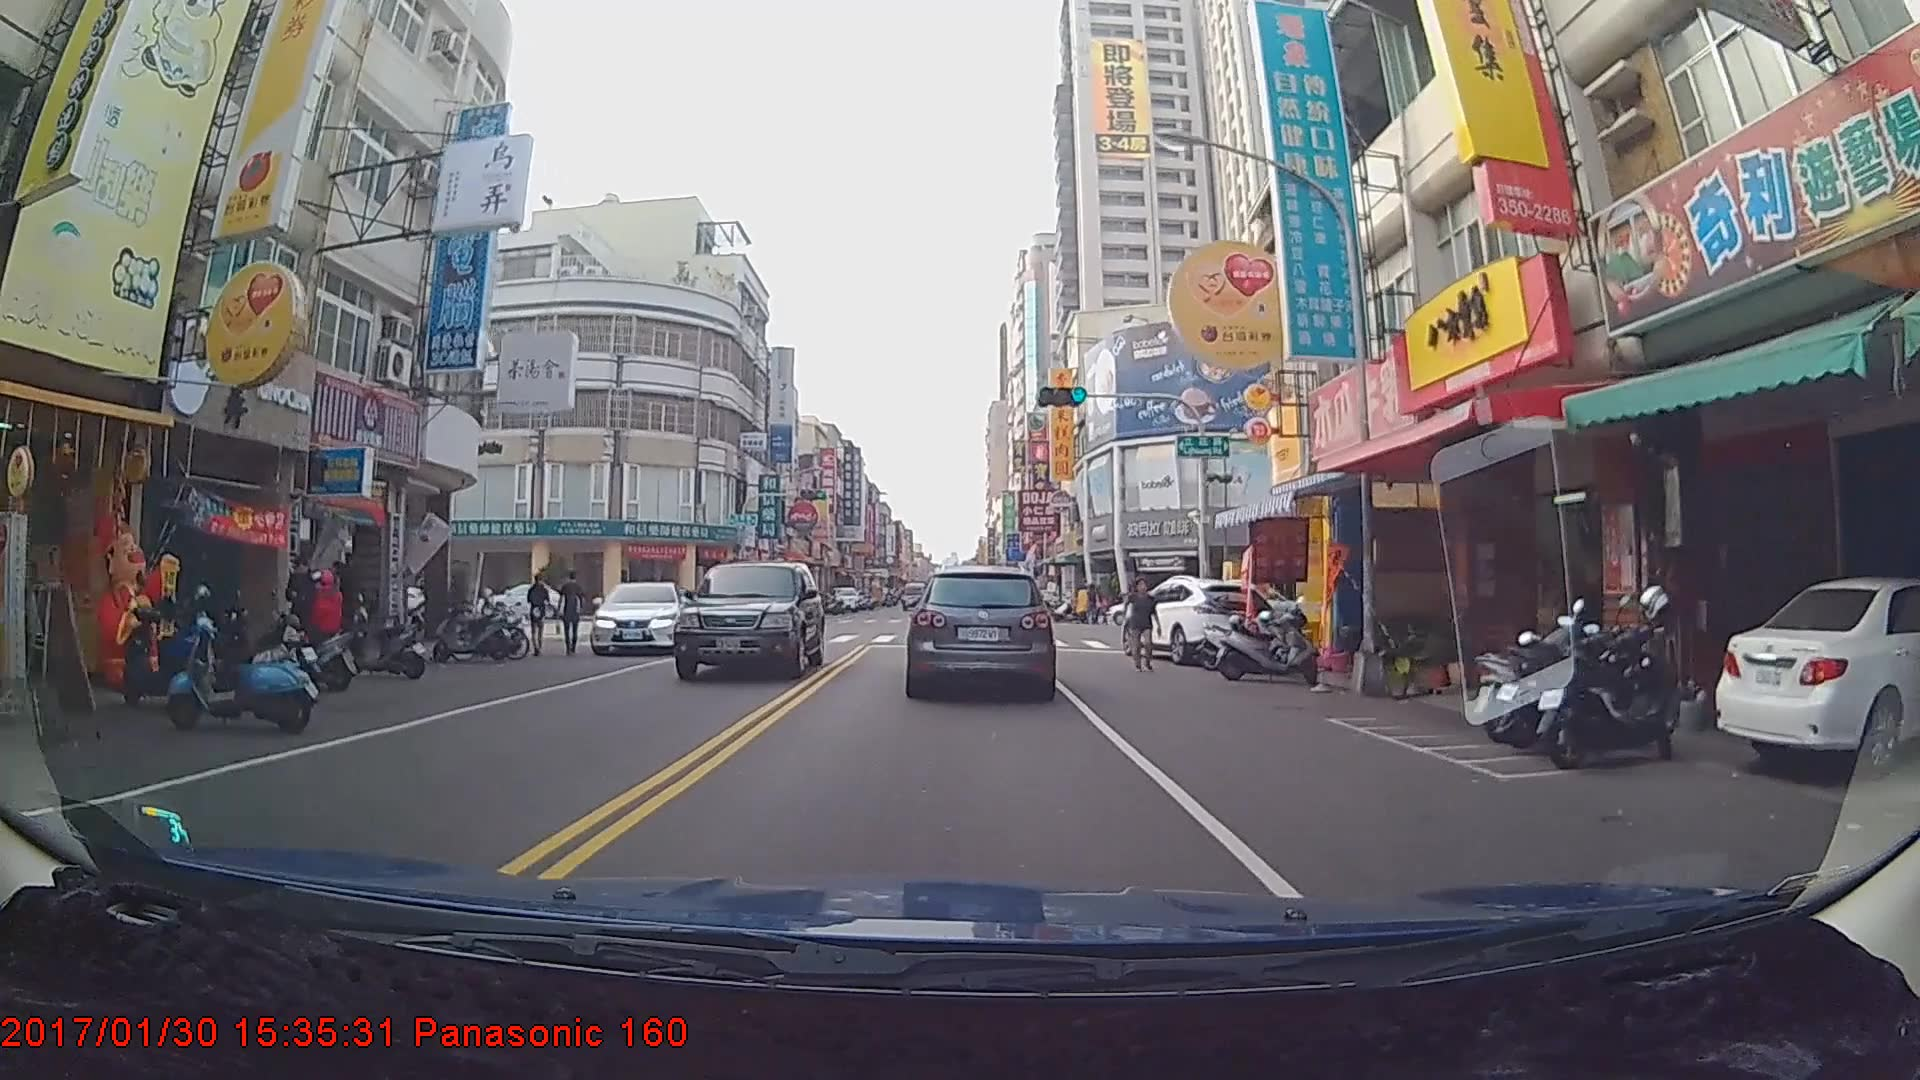pedestrian: (281, 550, 331, 668), (1122, 578, 1160, 669), (556, 569, 589, 652), (526, 573, 553, 659)
rider: (256, 568, 364, 698)
vehicle: (1709, 573, 1914, 778), (909, 565, 1054, 698), (674, 557, 826, 681), (1117, 573, 1277, 664), (587, 578, 689, 655), (901, 577, 929, 607)
